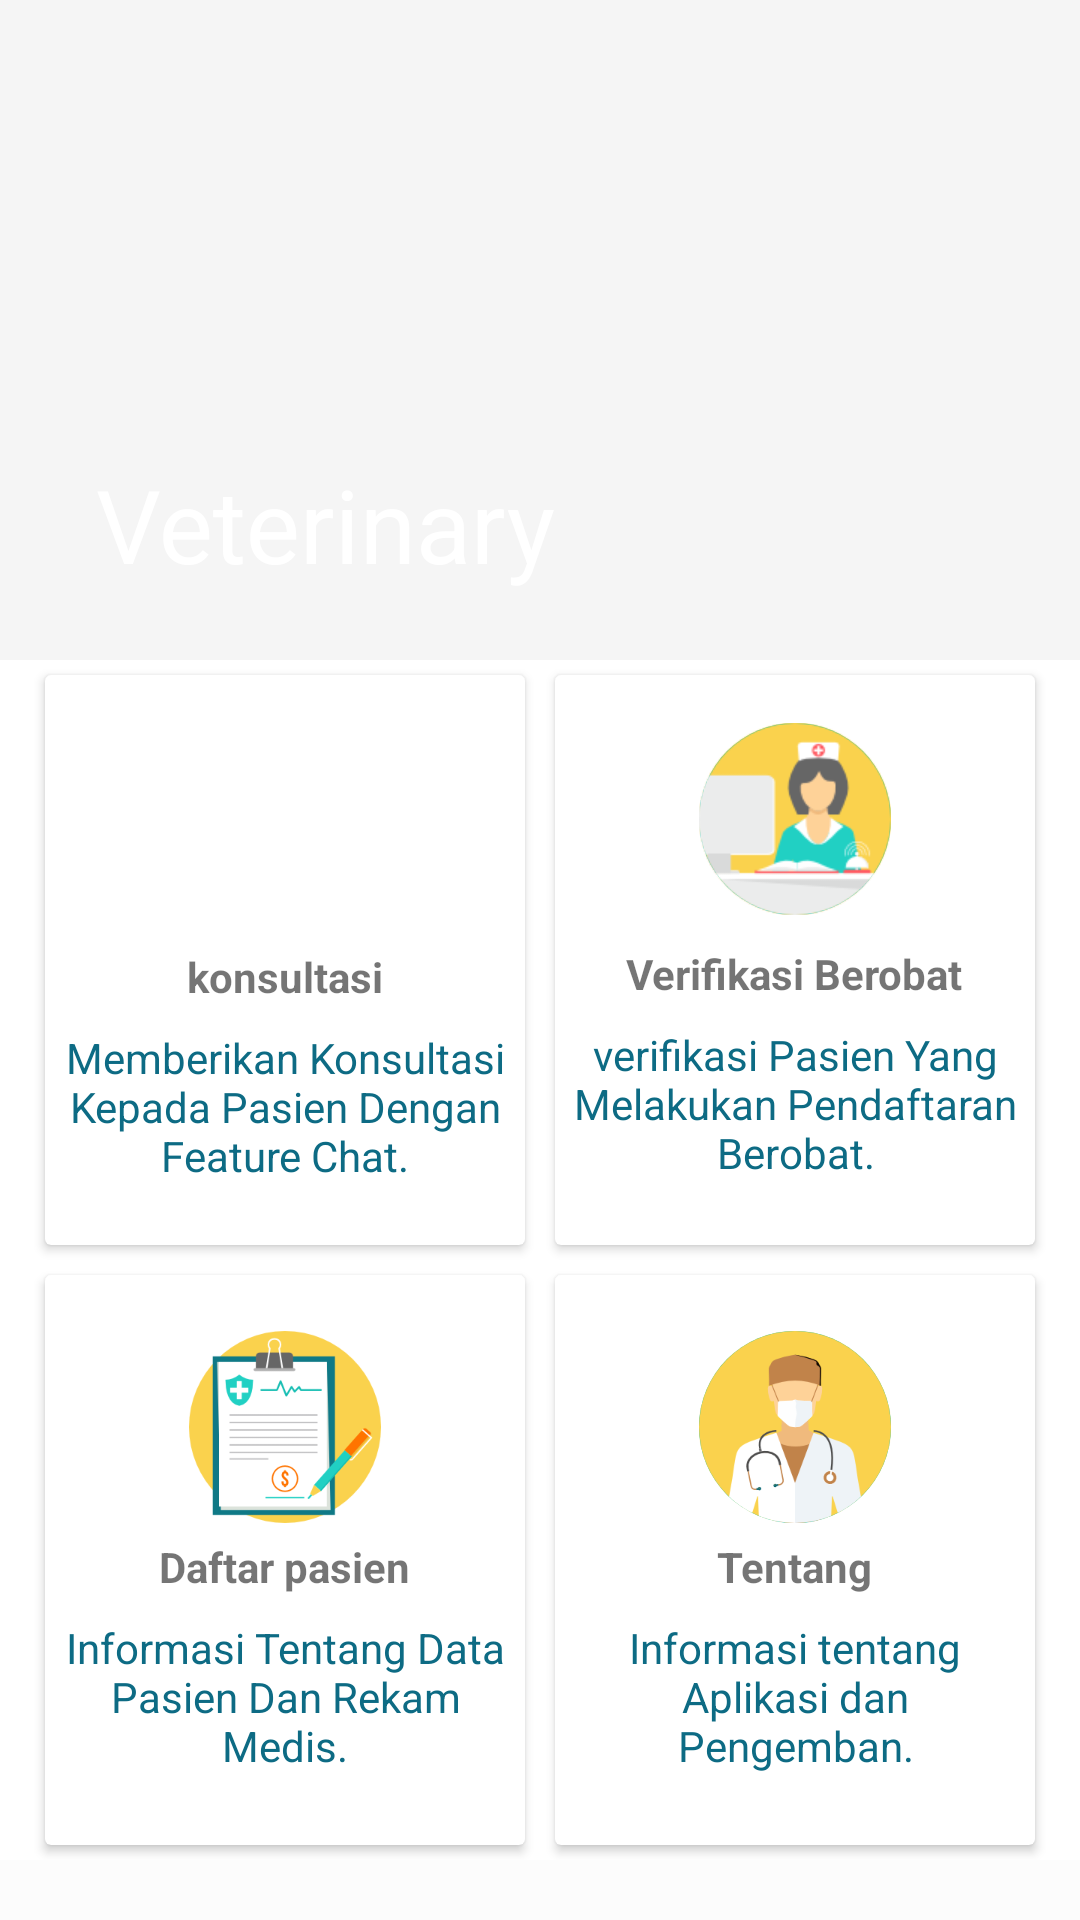

Where icons sit on this 1080 x 1920 app screen, as [x1=x1, y1=y1, x2=x2, y2=y2]:
medicalhistory: [x1=189, y1=1331, x2=381, y2=1523]
nurse: [x1=699, y1=723, x2=891, y2=915]
surgeon: [x1=699, y1=1331, x2=891, y2=1523]
